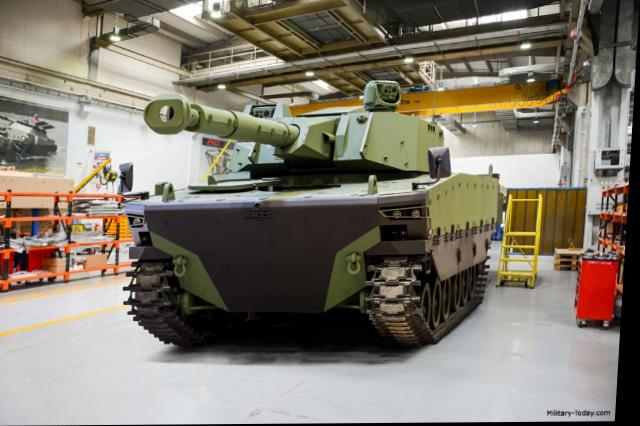tank: (108, 80, 516, 358)
